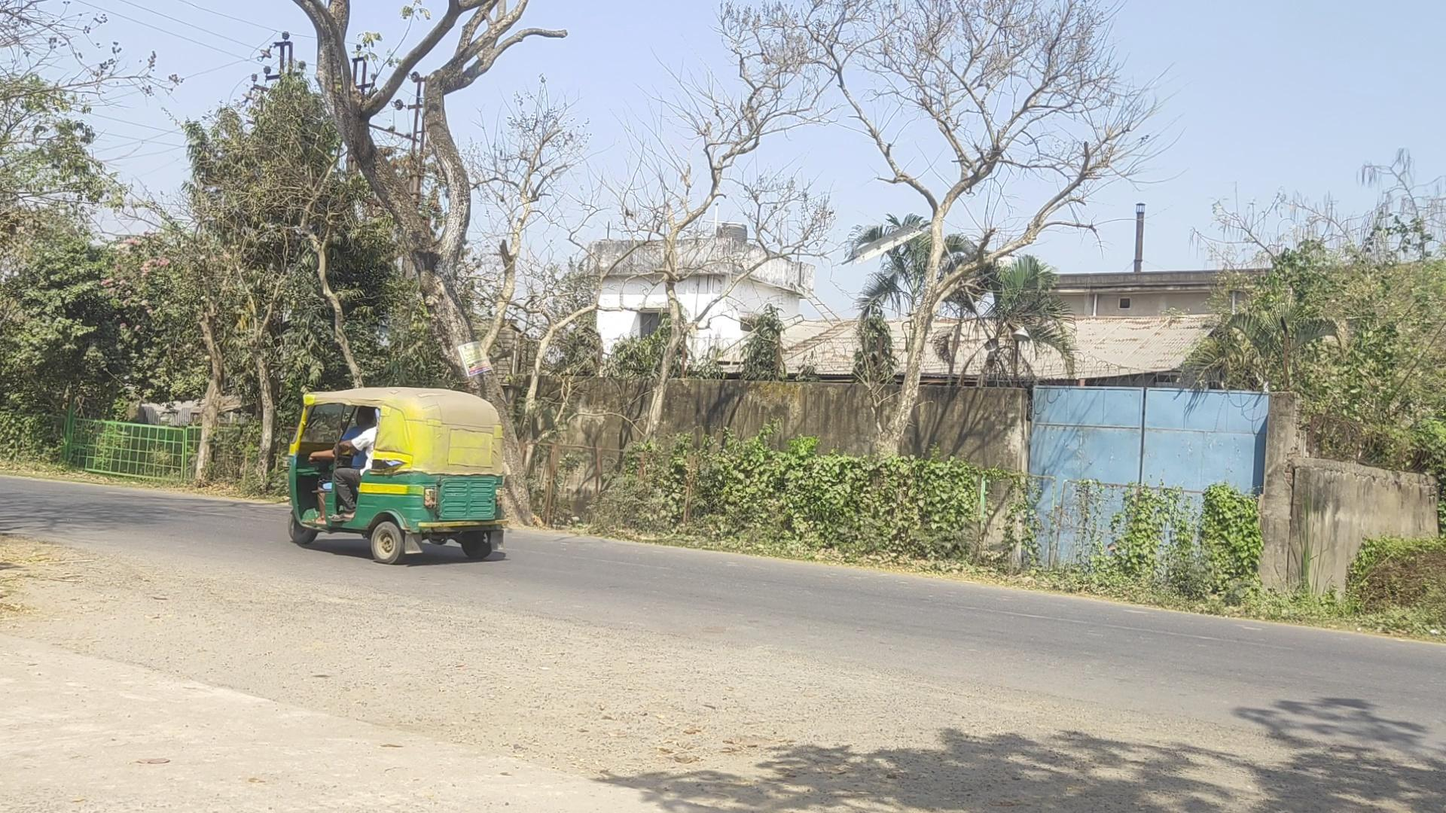Auto: (287, 386, 507, 566)
